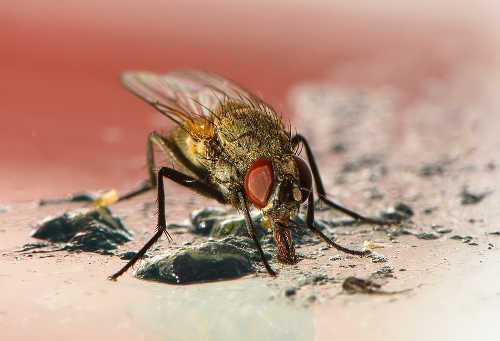house fly: (109, 53, 401, 299)
